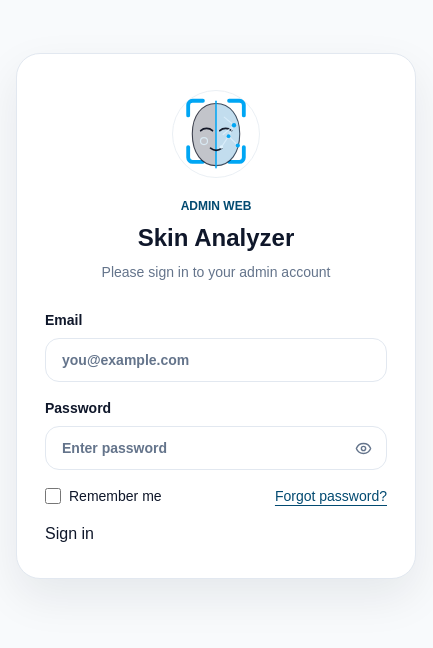
Test case: LoginPage auth behavior › shows safe unavailable copy for 503 session_ended conflict without terminal copy
Type "admin@example.com" into the field labelled "Email".
click(216, 360); type("admin@example.com")  # box [45,338,387,382]
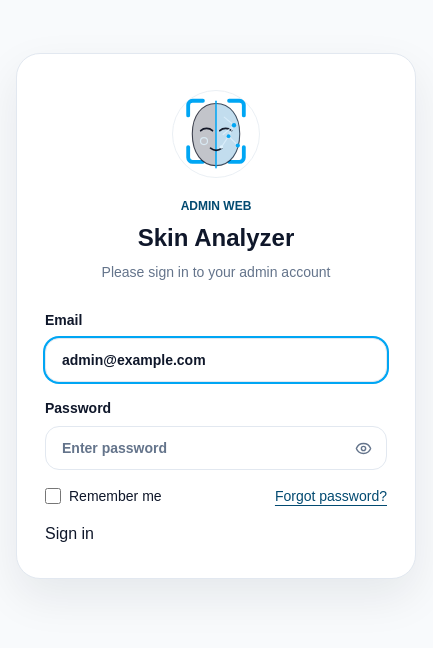
Type "test-password" into the password field labelled "Password".
click(216, 448); type("test-password")  # box [45,426,387,470]
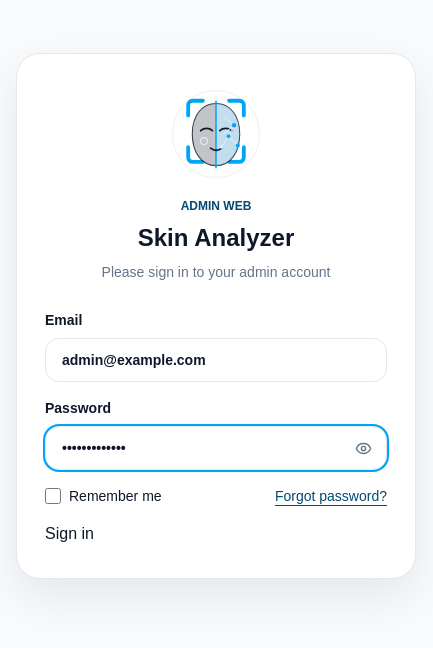
Click the button "Sign in".
click(69, 534)  # box [45,522,94,546]
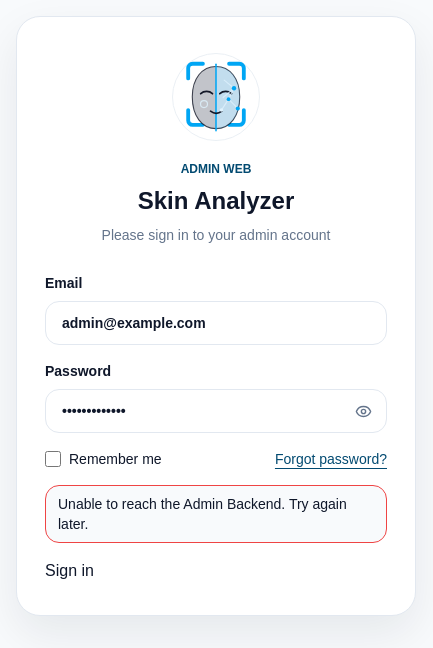
Expected: the text "Unable to reach the Admin Backend. Try again later." is shown, [45,485,387,543]
